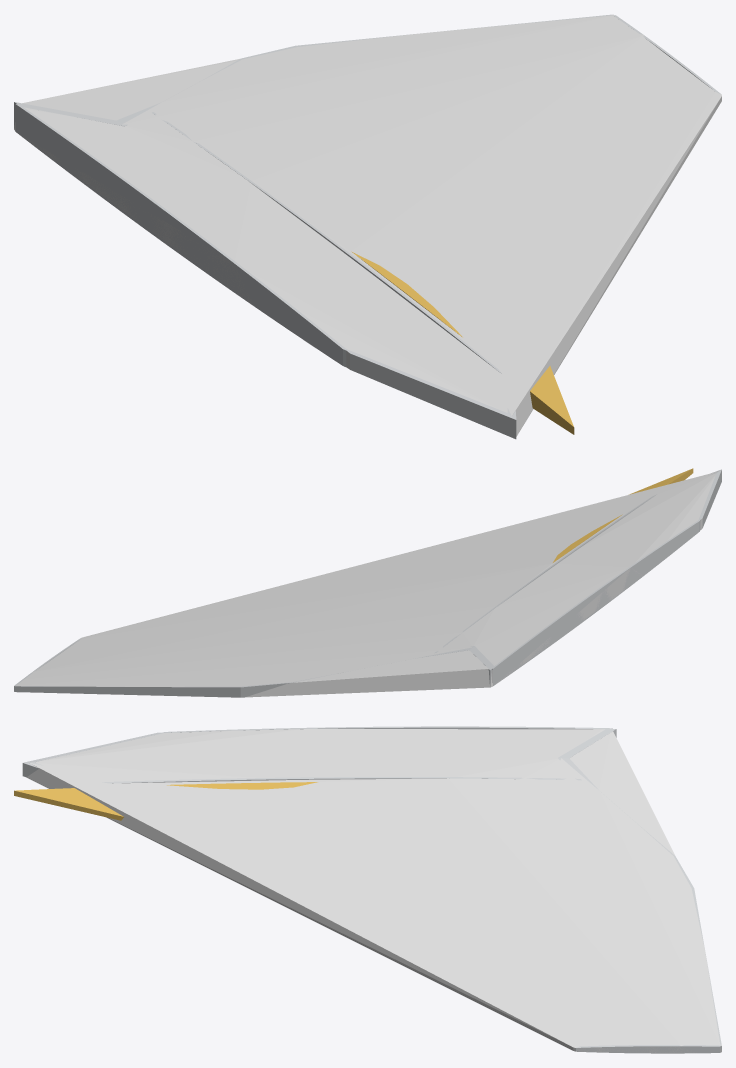
File: wing_spar_L.fbx
The picture shows the model from 3 angles, top to bottom: view 1: azimuth 30°, elevation 25°; view 2: azimuth 150°, elevation 25°; view 3: azimuth 270°, elevation 25°; orthographic projection. The views are drawn at different scales.
Visible parts, largest first — view 1: wing_spar_L_colmesh0, wing_spar_L; view 2: wing_spar_L_colmesh0, wing_spar_L; view 3: wing_spar_L_colmesh0, wing_spar_L.
Boxes of the visible parts, x1,y1,x2,y2 form: wing_spar_L_colmesh0: [14, 15, 721, 436]; wing_spar_L: [14, 14, 720, 439]; wing_spar_L_colmesh0: [15, 471, 717, 697]; wing_spar_L: [14, 468, 721, 697]; wing_spar_L_colmesh0: [26, 729, 721, 1053]; wing_spar_L: [14, 726, 721, 1053].
Size of what is drawn, in the model's own units: 2.73 by 0.5657 by 3.61.
